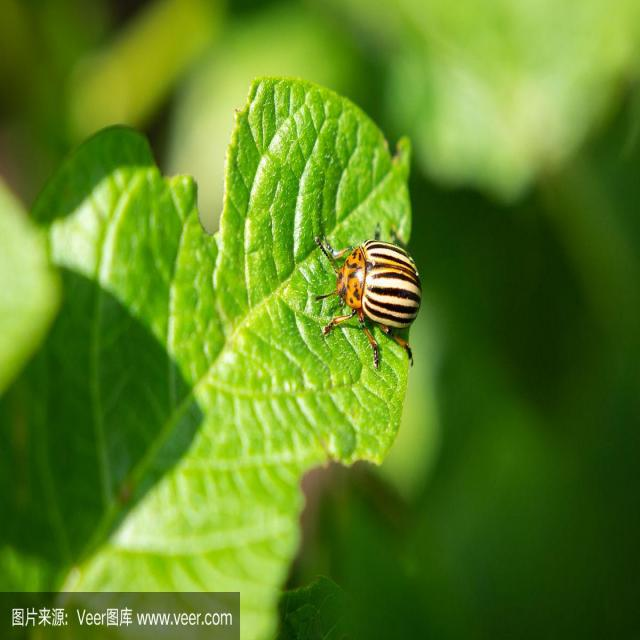ShuCaiHuaBanChong-Grown-: (315, 232, 433, 356)
